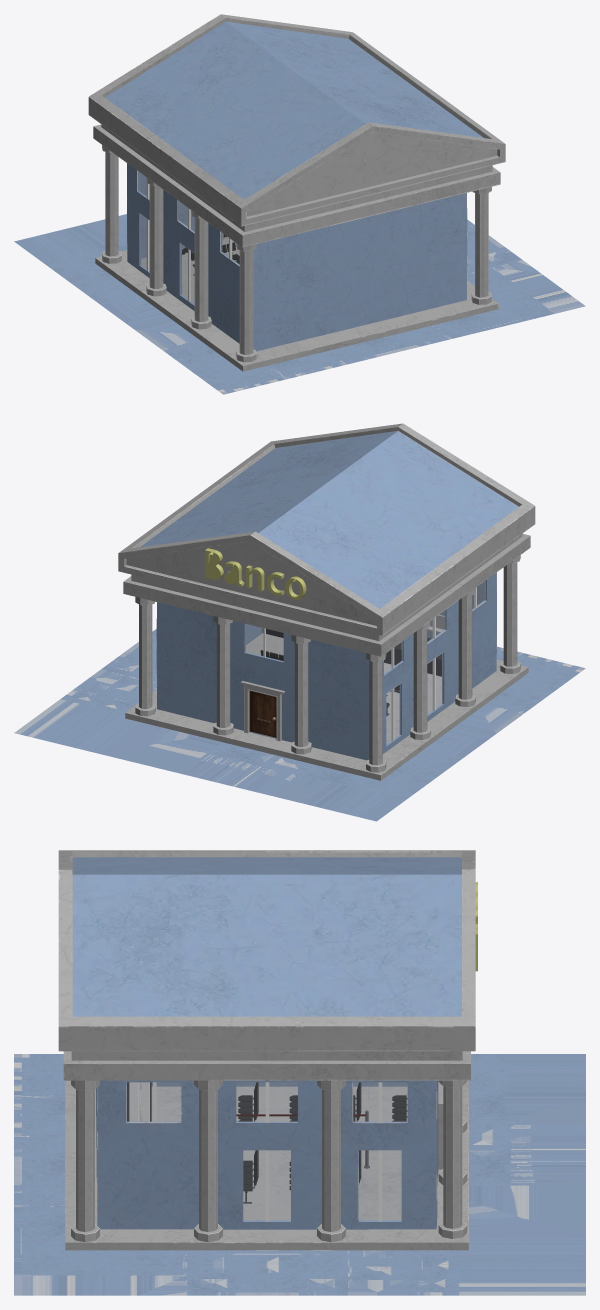
File: banco.glb
The picture shows the model from 3 angles, top to bottom: view 1: azimuth 30°, elevation 25°; view 2: azimuth 150°, elevation 25°; view 3: azimuth 270°, elevation 25°; orthographic projection. The views are drawn at different scales.
Visible parts, largest first — view 1: Banco; view 2: Banco; view 3: Banco.
Boxes of the visible parts, x1=… form: Banco: x1=14, y1=14, x2=585, y2=394; Banco: x1=14, y1=423, x2=585, y2=821; Banco: x1=14, y1=850, x2=585, y2=1295.
Bounding box in the file's own units: 5.57 × 3.33 × 5.57.
Materials: 18 (12 with a texture image).
